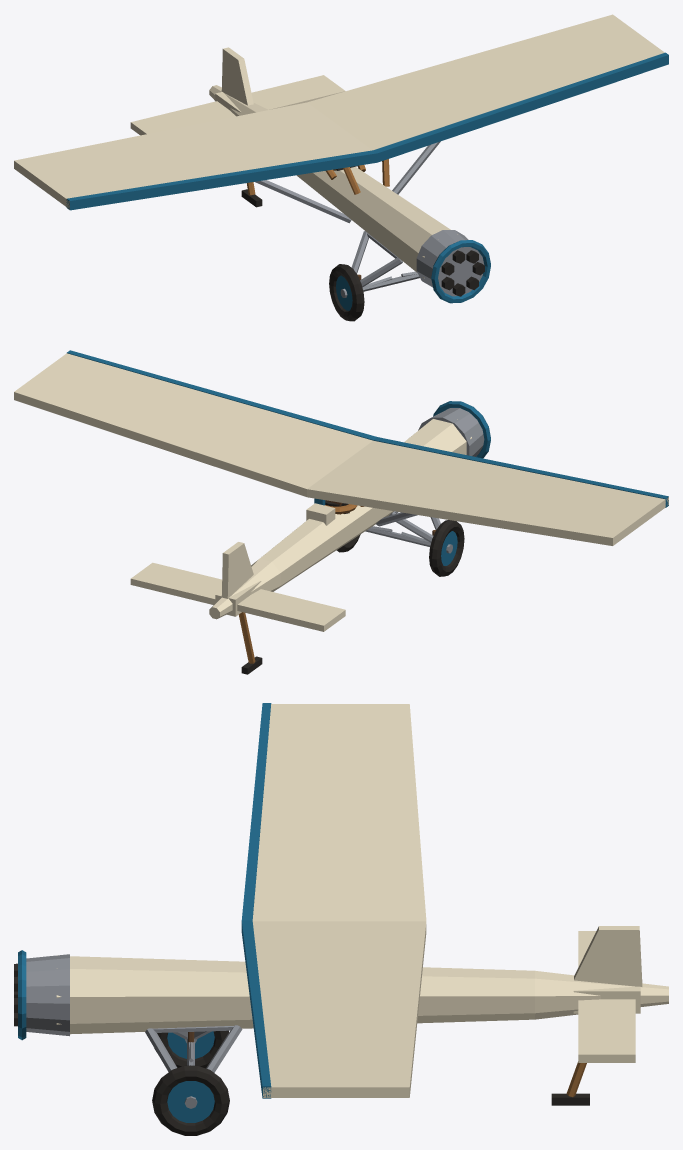
The model's file is body.glb.
The picture shows the model from 3 angles, top to bottom: view 1: azimuth 30°, elevation 25°; view 2: azimuth 150°, elevation 25°; view 3: azimuth 270°, elevation 25°; orthographic projection. The views are drawn at different scales.
Visible parts, largest first — view 1: wing_0, wing_0_leading_edge, fuselage, horizontal_stabilizer, engine_cowl, vertical_fin, cowl_ring, tire, lift_strut_l, lift_strut_r, tail_cone; view 2: wing_0, fuselage, horizontal_stabilizer, wing_0_leading_edge, tail_cone, vertical_fin, engine_cowl, tire, cowl_ring; view 3: wing_0, fuselage, wing_0_leading_edge, horizontal_stabilizer, tire (×2), engine_cowl, vertical_fin, tail_cone, rim (×2), cowl_ring, tailplane_fairing.
Boxes of the visible parts, box(x1,y1,x2,y2) form: wing_0: box(14, 14, 664, 209); wing_0_leading_edge: box(66, 52, 668, 210); fuselage: box(297, 166, 457, 278); horizontal_stabilizer: box(130, 75, 345, 135); engine_cowl: box(416, 230, 484, 296); vertical_fin: box(221, 47, 253, 105); cowl_ring: box(431, 240, 490, 303); tire: box(329, 264, 364, 321); lift_strut_l: box(254, 180, 351, 223); lift_strut_r: box(392, 141, 440, 194); tail_cone: box(209, 85, 268, 116); wing_0: box(14, 353, 668, 545); fuselage: box(260, 419, 471, 591); horizontal_stabilizer: box(130, 562, 345, 631); wing_0_leading_edge: box(67, 350, 668, 507); tail_cone: box(209, 558, 280, 619); vertical_fin: box(221, 542, 253, 598); engine_cowl: box(418, 408, 484, 456); tire: box(429, 520, 464, 576); cowl_ring: box(433, 401, 490, 458); wing_0: box(252, 704, 426, 1097); fuselage: box(56, 955, 534, 1034); wing_0_leading_edge: box(241, 703, 271, 1098); horizontal_stabilizer: box(578, 931, 635, 1062); tire (×2): box(152, 1030, 229, 1135); engine_cowl: box(26, 954, 69, 1036); vertical_fin: box(574, 926, 642, 986); tail_cone: box(535, 970, 668, 1019); rim (×2): box(167, 1031, 214, 1122); cowl_ring: box(18, 950, 26, 1040); tailplane_fairing: box(573, 986, 640, 1013).
Bounding box in the file's own units: 10.01 × 2.55 × 7.23.
